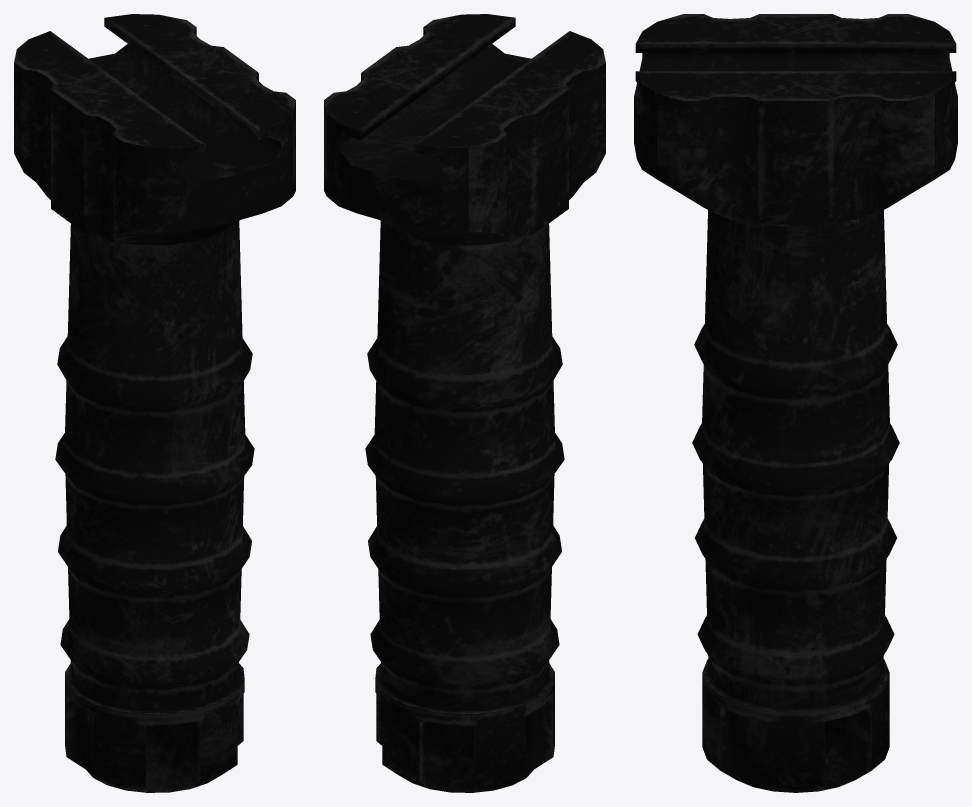
Rendered from grip.FBX.
3 renders of one model, left to right at view 1: azimuth 30°, elevation 25°; view 2: azimuth 150°, elevation 25°; view 3: azimuth 270°, elevation 25°, orthographic. The views are drawn at different scales.
Parts seen in each view (by area): view 1: Grip_01_LOD0; view 2: Grip_01_LOD0; view 3: Grip_01_LOD0.
Boxes of the visible parts, box(x1,y1,x2,y2) form: Grip_01_LOD0: box(14, 14, 295, 792); Grip_01_LOD0: box(324, 14, 605, 792); Grip_01_LOD0: box(634, 14, 957, 792).
Size of what is drawn, in the model's own units: 3.48 by 13.18 by 5.43.
